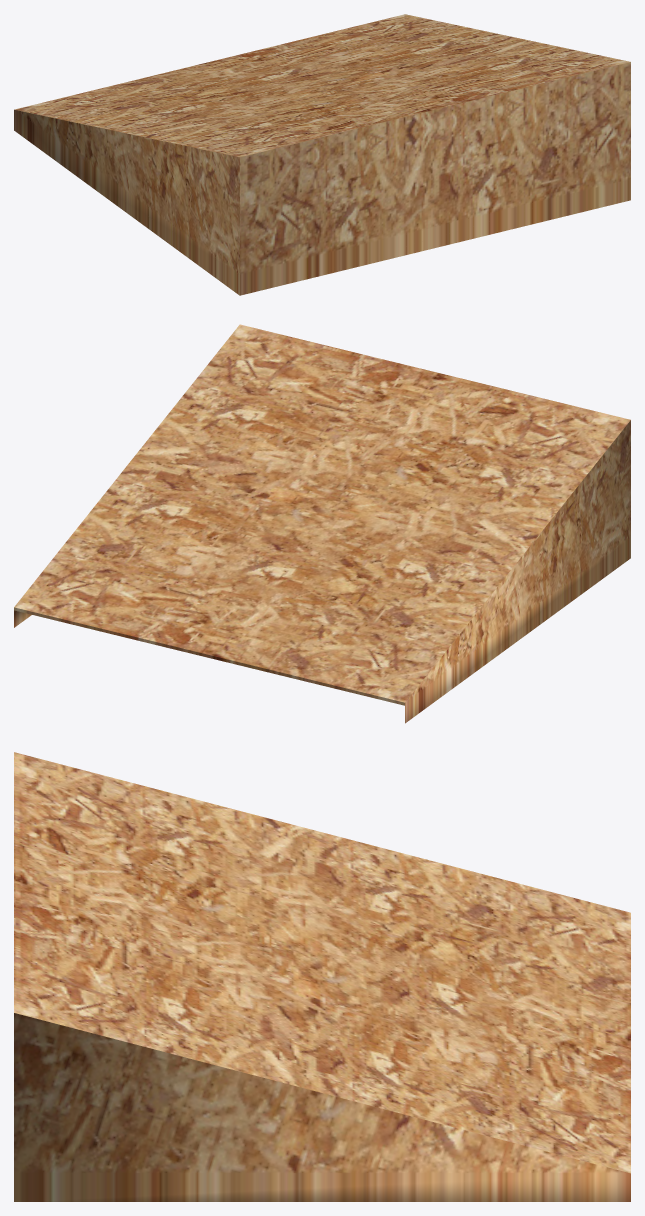
The model's file is full_ramp_semi_elevated.dae.
3 views of the same model, one above another, from view 1: azimuth 30°, elevation 25°; view 2: azimuth 150°, elevation 25°; view 3: azimuth 270°, elevation 25° (orthographic). The views are drawn at different scales.
Parts seen in each view (by area): view 1: Plane; view 2: Plane; view 3: Plane.
Part boxes in pixels (box(x1,y1,x2,y2)): Plane: box(14, 14, 630, 295); Plane: box(14, 324, 630, 723); Plane: box(14, 752, 630, 1201).
Size of the model in its own units: 1.18 by 1.18 by 0.399.
Materials: 1 (1 with a texture image).
